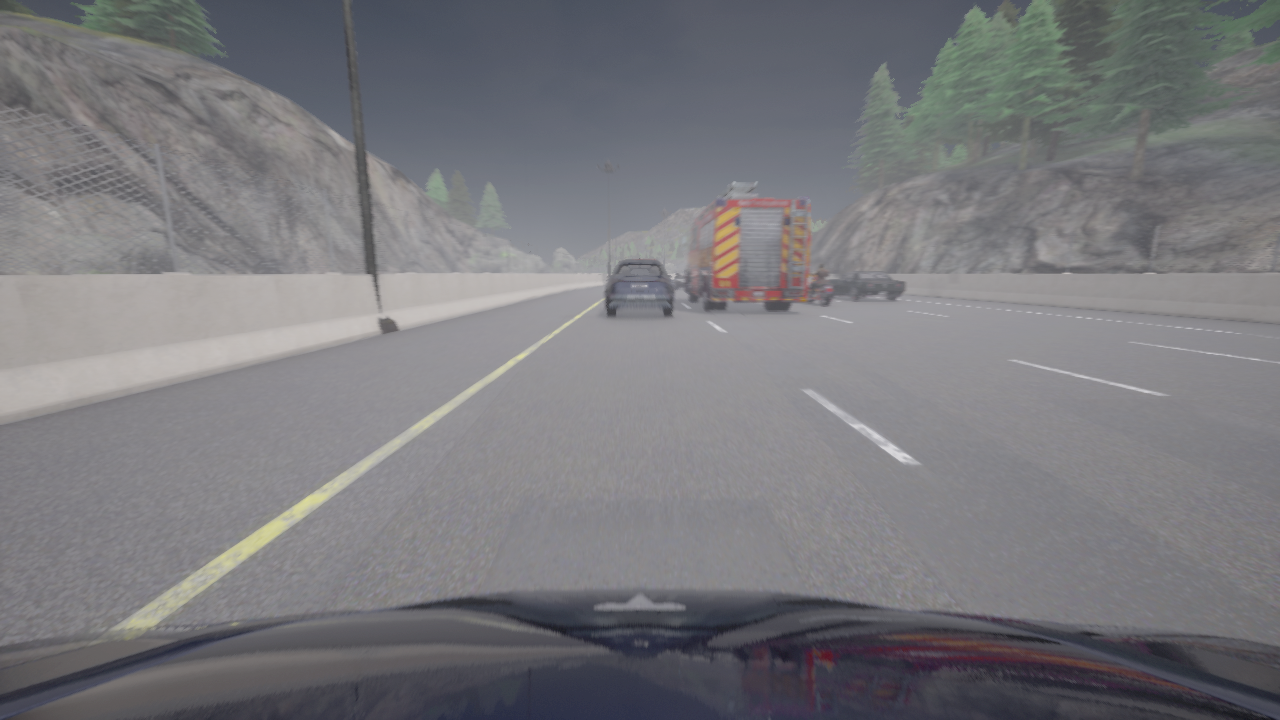cyclist: (0, 588, 1279, 719), (681, 182, 809, 310), (606, 259, 673, 316), (826, 271, 905, 300), (806, 275, 833, 305), (674, 272, 686, 288), (678, 271, 685, 272)
